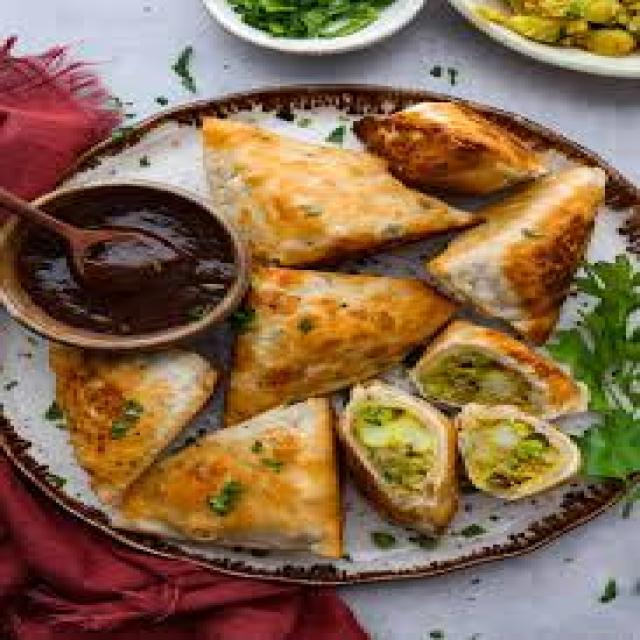SAMOSA: (203, 110, 480, 265), (214, 255, 457, 426), (112, 400, 342, 552), (432, 163, 607, 341), (48, 337, 226, 509), (348, 98, 539, 203), (415, 316, 589, 415), (345, 405, 455, 548), (463, 398, 581, 512)
